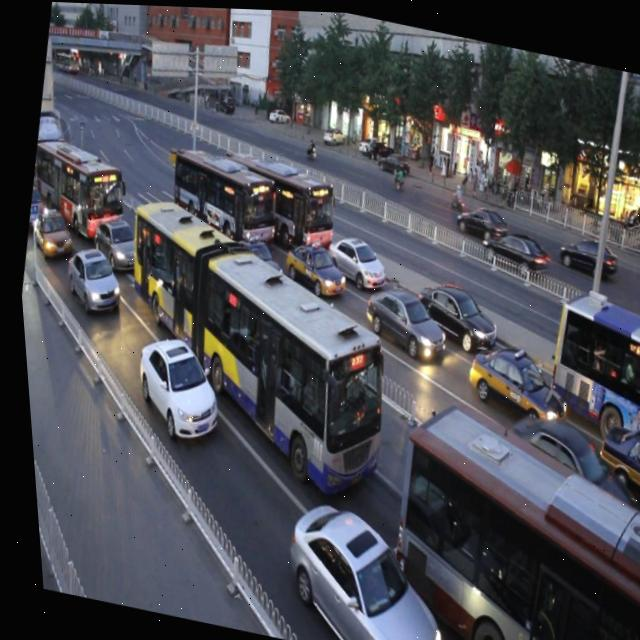car: (260, 487, 450, 640), (483, 402, 640, 552), (117, 328, 227, 447), (453, 330, 572, 438), (352, 272, 448, 362), (407, 268, 501, 351), (273, 228, 347, 299), (315, 220, 387, 291), (55, 243, 124, 316), (584, 409, 640, 496), (217, 227, 287, 294), (83, 210, 146, 276), (18, 196, 73, 261)
van: (88, 185, 413, 501), (361, 388, 640, 640), (532, 278, 640, 435), (156, 134, 285, 259), (213, 139, 343, 256), (20, 129, 131, 237)
